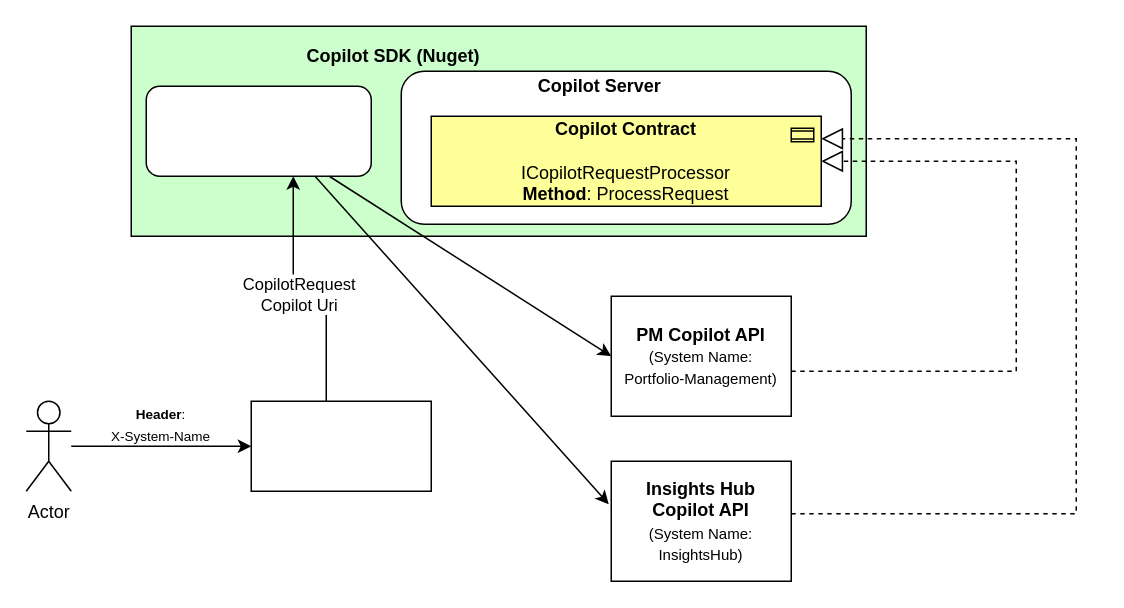
Some shapes in this 1124 by 608 pixel diagram are drawn without their labels. Each missing label, with the centre of its shape:
Copilot Client: [258,130]
Copilot Orchestrator: [340,445]
